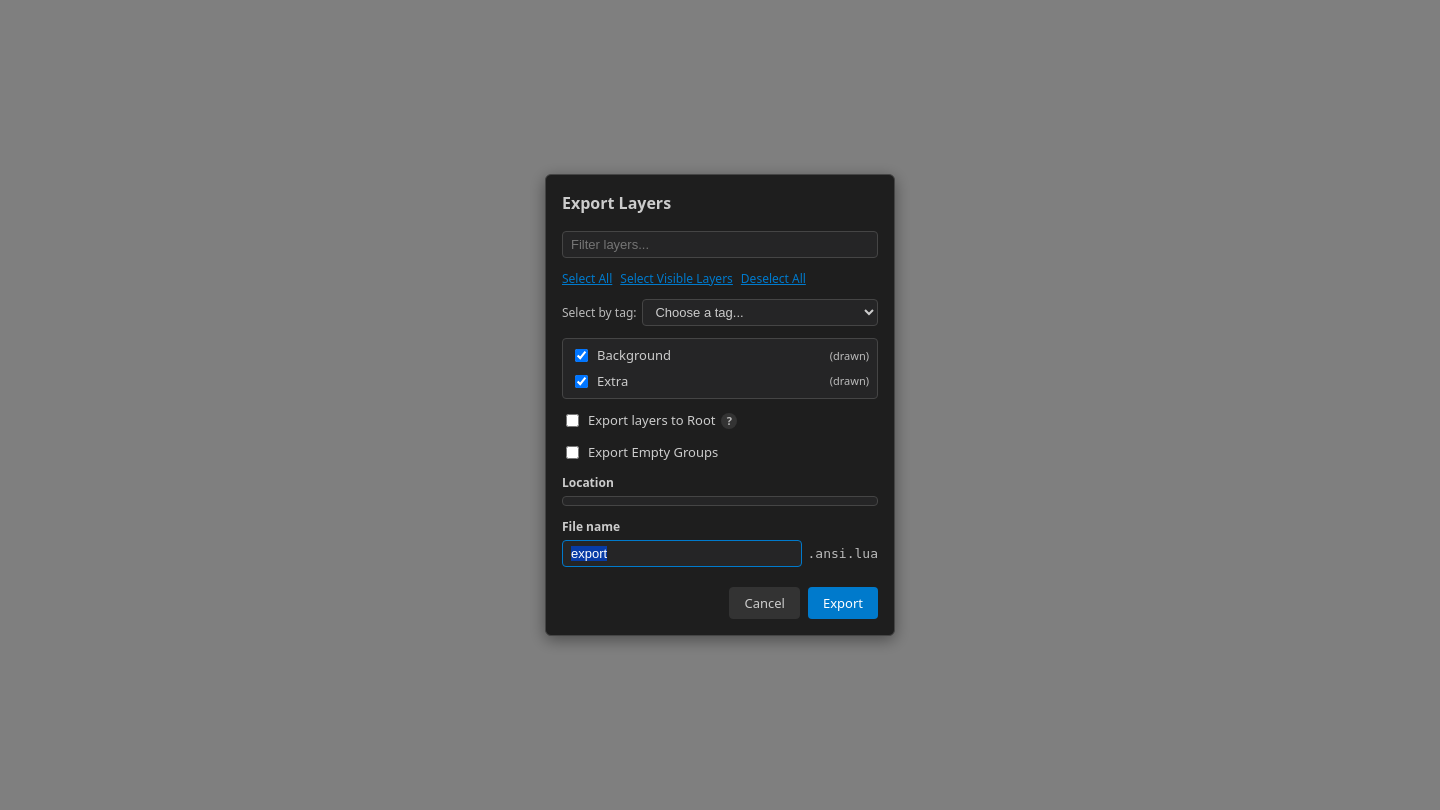
Test: ExportLayersDialog — tags, groups, dedup › Select by tag › removing a tag preserves manually selected layers
The image size is (1440, 810).
Click the button "Deselect All".
click(773, 278)  # box [741, 270, 806, 287]
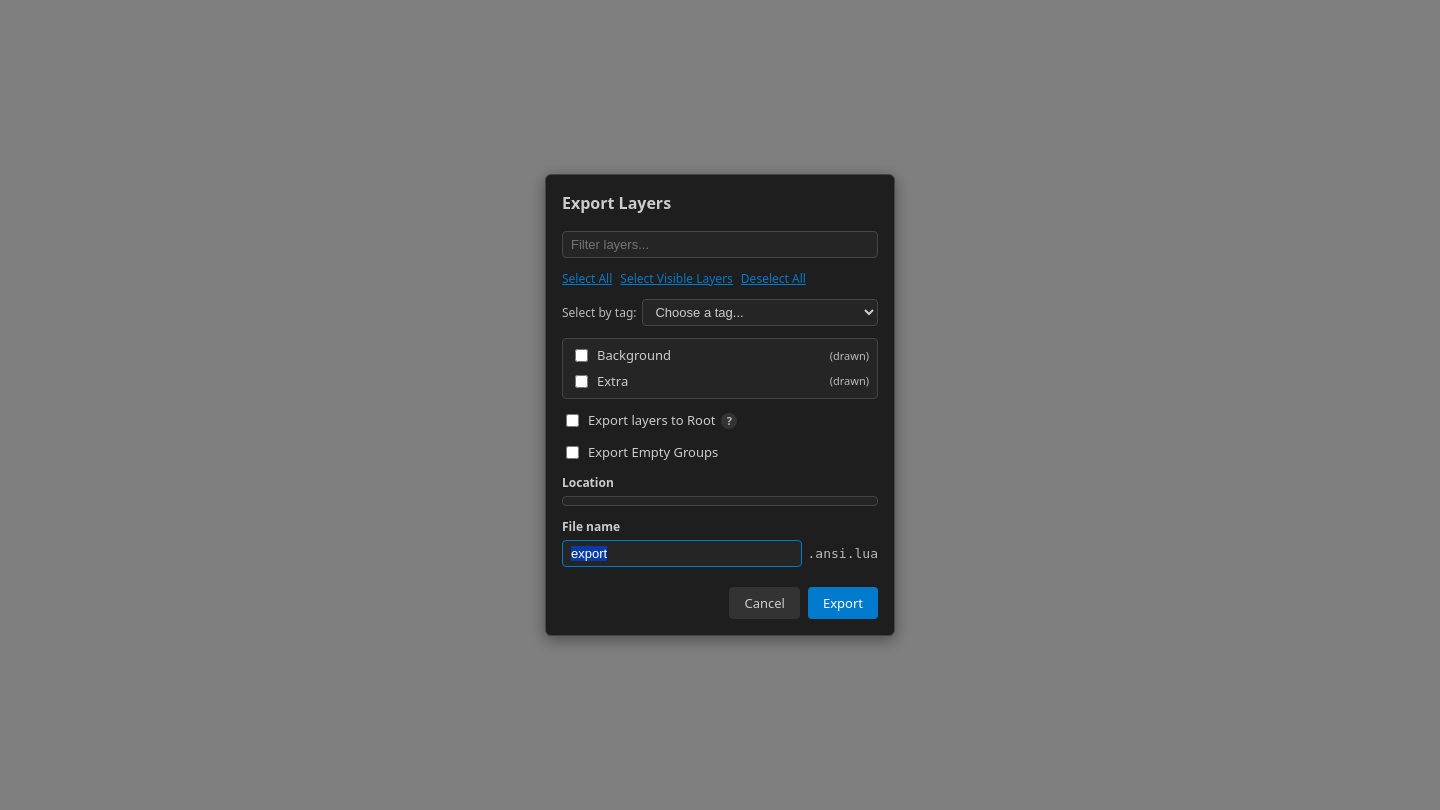
Click the checkbox with test id "export-check-ex-1".
click(582, 381)  # box [575, 375, 588, 388]
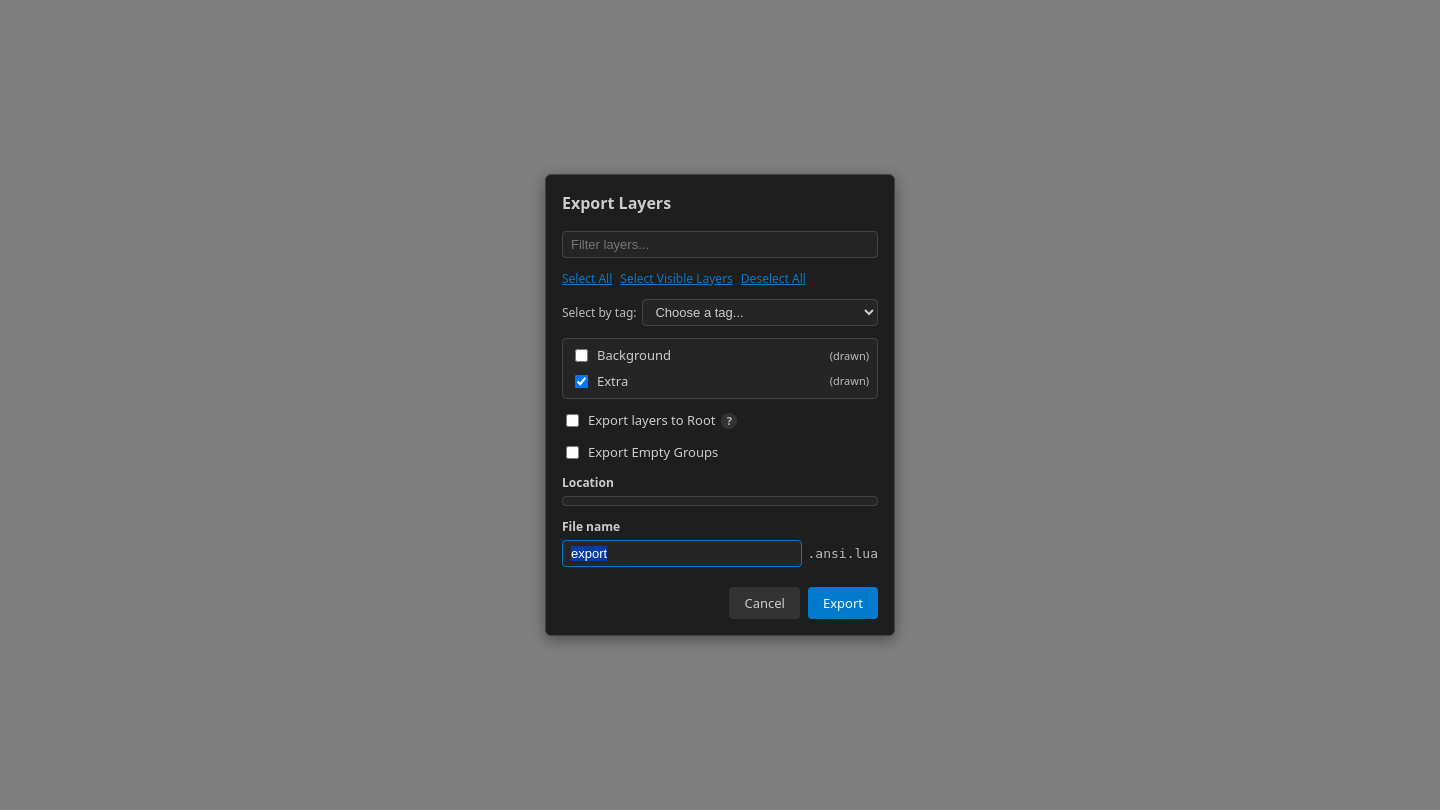
Select "sky" in the dropdown with test id "export-tag-select" at (760, 312), box [642, 299, 878, 326]
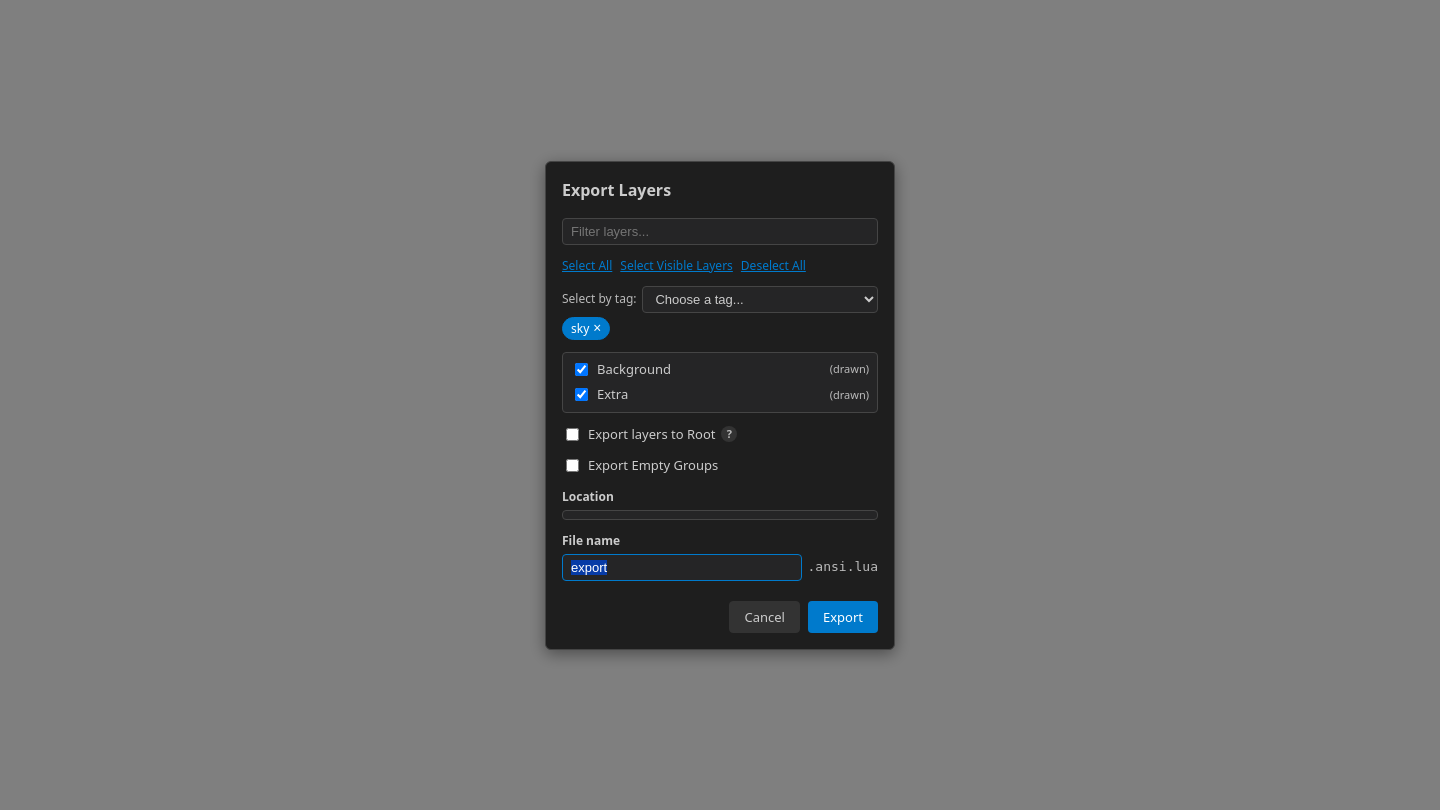
Expected: the checkbox with test id "export-check-ex-1" is checked, [575, 388, 588, 401]
Expected: the checkbox with test id "export-check-bg-1" is checked, [575, 363, 588, 376]
# Remove sky — extra should remain, bg should not
Click the button with test id "export-pill-sky".
click(586, 328)  # box [562, 316, 610, 340]
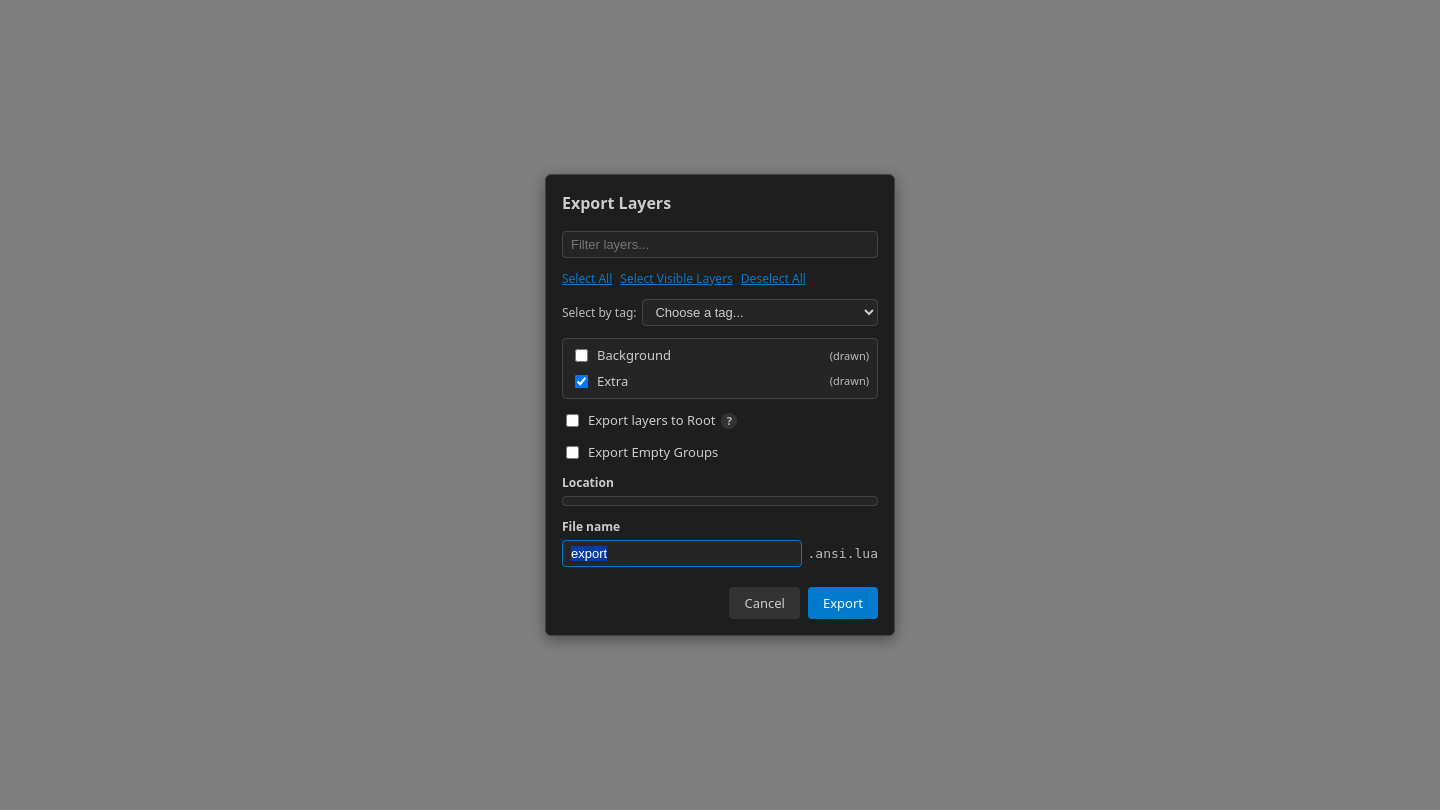
Expected: the checkbox with test id "export-check-ex-1" is checked, [575, 375, 588, 388]
Expected: the checkbox with test id "export-check-bg-1" is not checked, [575, 349, 588, 362]
